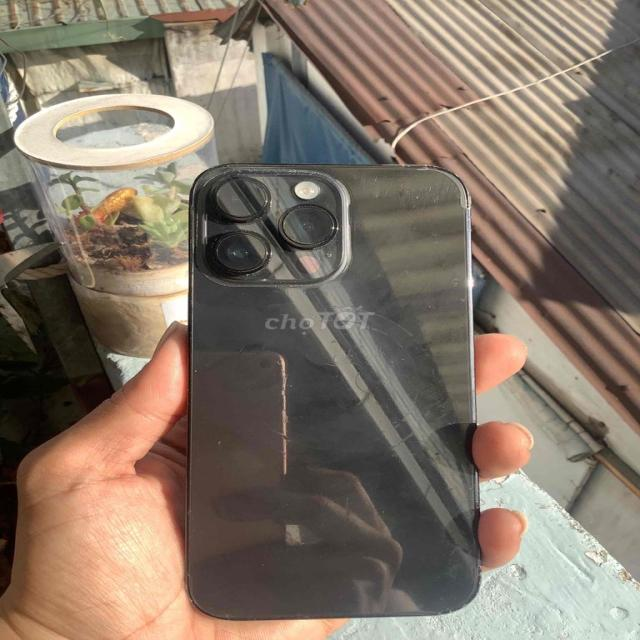scratch: (201, 229, 358, 298), (382, 158, 478, 252), (186, 157, 379, 190), (429, 270, 472, 330)
